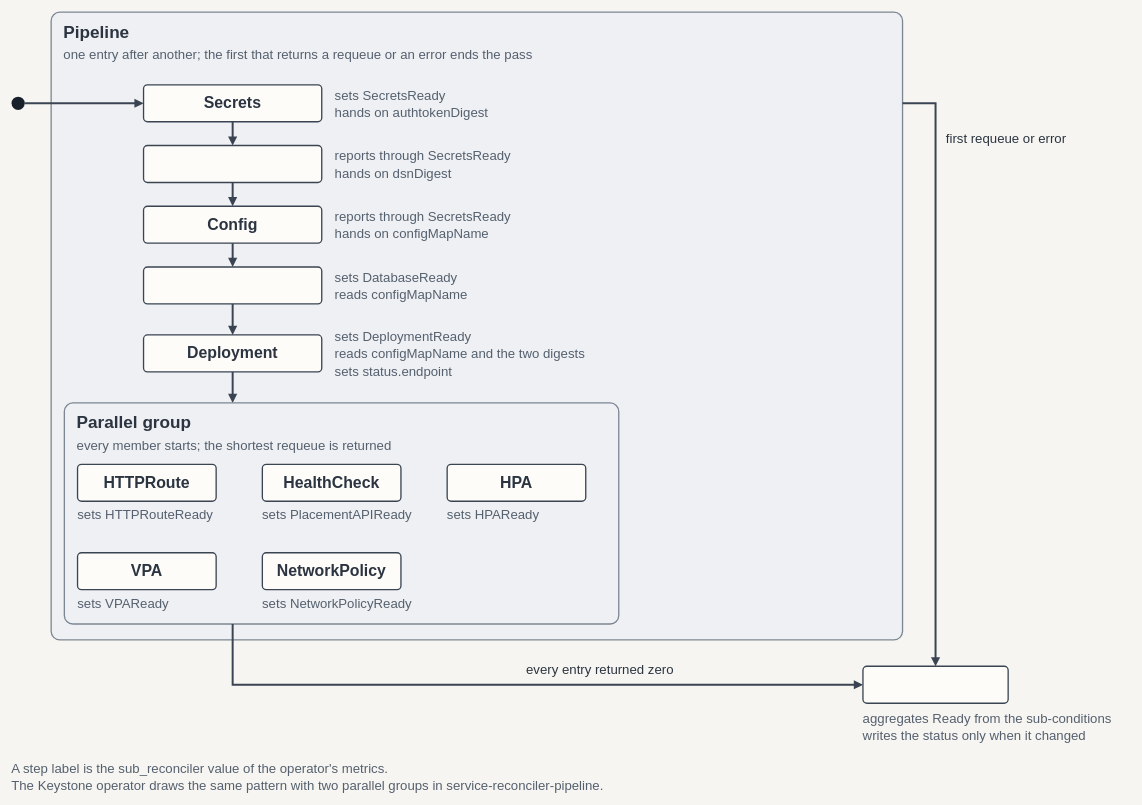
Image size: 1142x805. Some labels were removed from this diagram. The shapes that lost their labels are listed below. From the top down, each one's centre as x and y in pixels, then its label:
At pixel 232 164: "DBConnectionSecret".
At pixel 232 285: "Database".
At pixel 935 684: "updateStatus".
